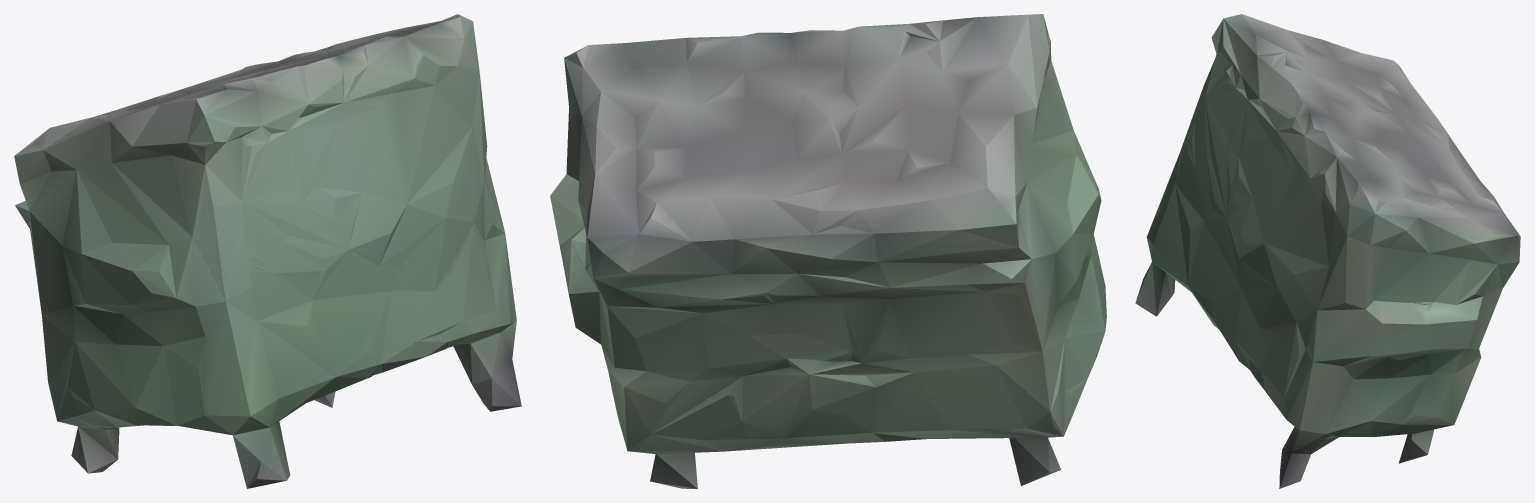
File: dumpster.glb
3 renders of one model, left to right at view 1: azimuth 30°, elevation 25°; view 2: azimuth 150°, elevation 25°; view 3: azimuth 270°, elevation 25°, orthographic. The views are drawn at different scales.
Visible parts, largest first — view 1: world; view 2: world; view 3: world.
Part boxes in pixels (<box>): world: <box>14,14,521,488</box>; world: <box>550,14,1106,488</box>; world: <box>1135,14,1520,488</box>.
Size of the model in its own units: 1.42 by 1.3 by 1.27.
